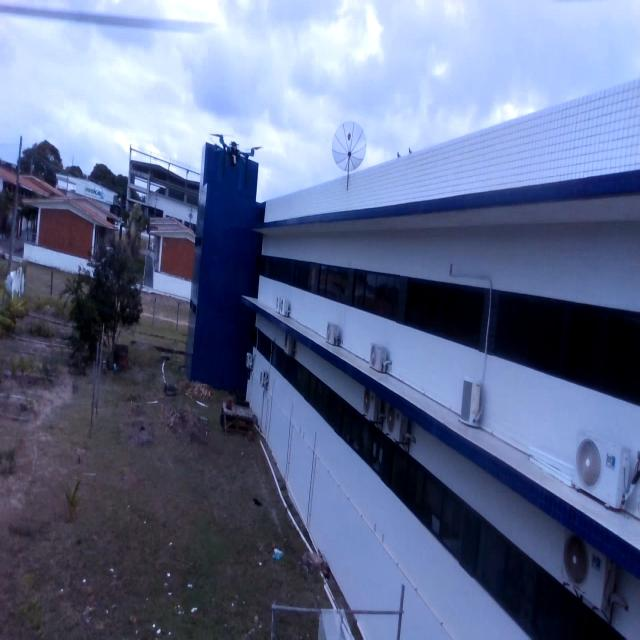-uav-: (203, 122, 266, 191)
